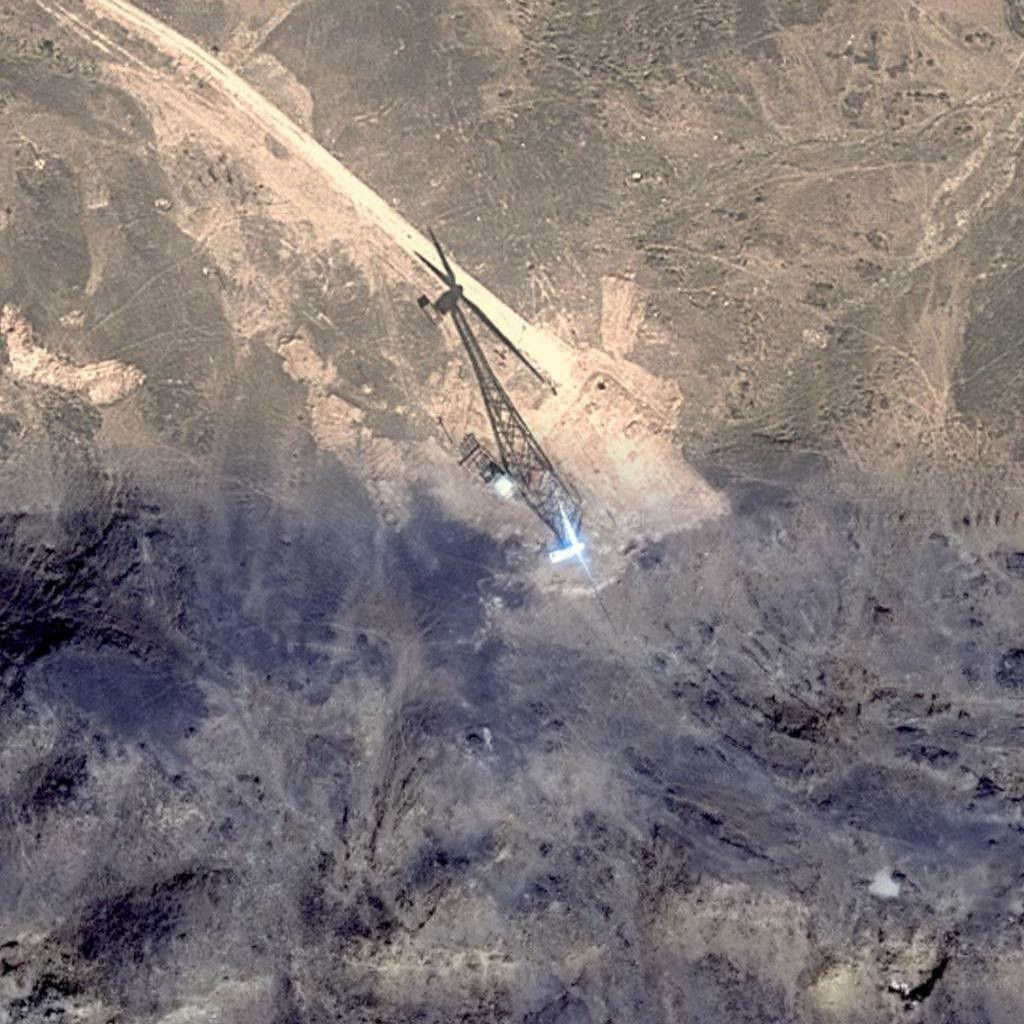Windmill: (403, 229, 591, 516)
